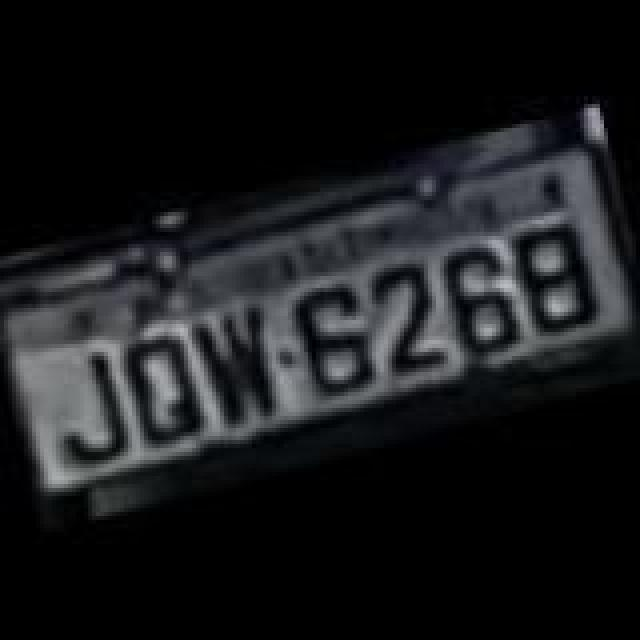2: (356, 252, 460, 388)
6: (422, 228, 538, 364), (282, 268, 390, 400)
8: (502, 212, 610, 348)
J: (28, 338, 144, 470)
Q: (104, 322, 212, 450)
W: (190, 296, 298, 432)
